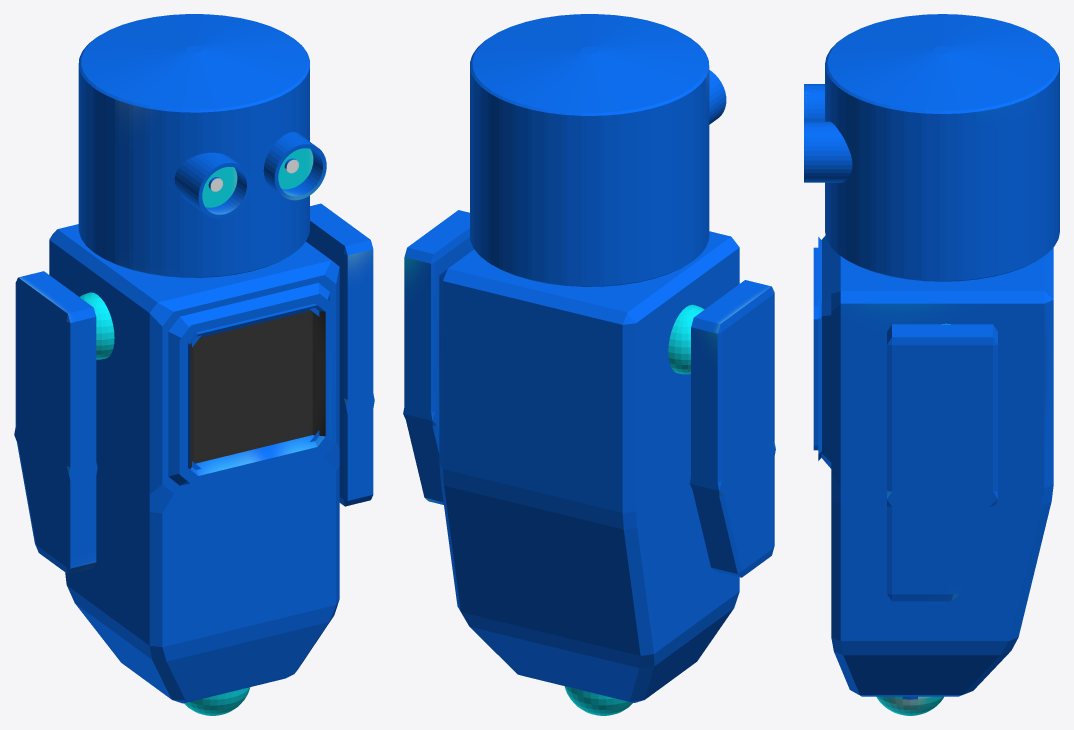
Rendered from Blue Robot.glb.
3 views of the same model, side by side, from view 1: azimuth 30°, elevation 25°; view 2: azimuth 150°, elevation 25°; view 3: azimuth 270°, elevation 25° (orthographic). The views are drawn at different scales.
Parts seen in each view (by area): view 1: Cube.001; view 2: Cube.001; view 3: Cube.001.
Part boxes in pixels (box(x1,y1,x2,y2)): Cube.001: box(14, 14, 374, 715); Cube.001: box(403, 14, 775, 715); Cube.001: box(804, 14, 1059, 715).
Bounding box in the file's own units: 3.22 × 6.56 × 2.3.
1 material, 1 textured.
